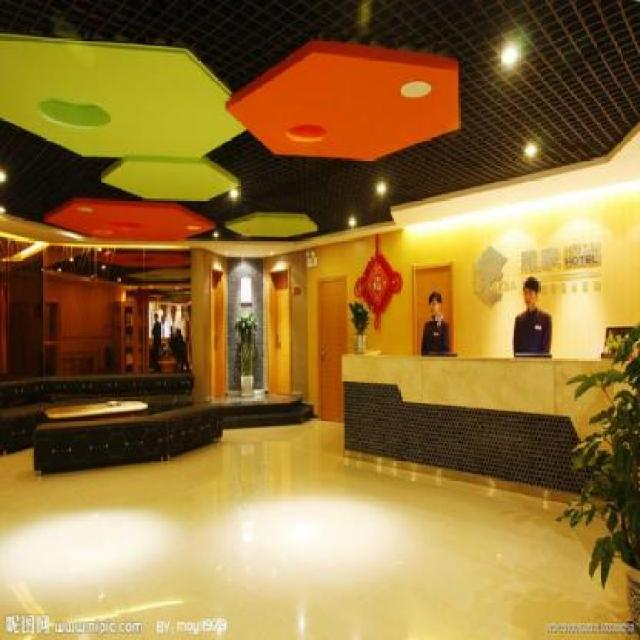frontdesk: (325, 330, 639, 518)
